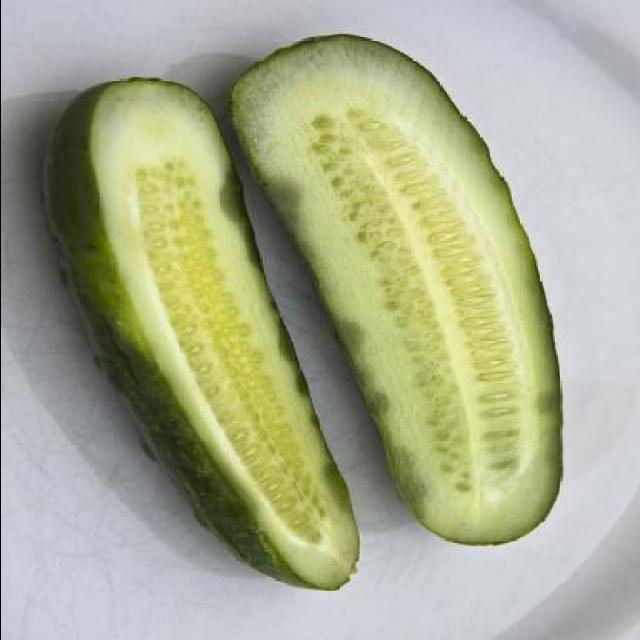Cucumber: (229, 32, 565, 546), (73, 140, 364, 598)
